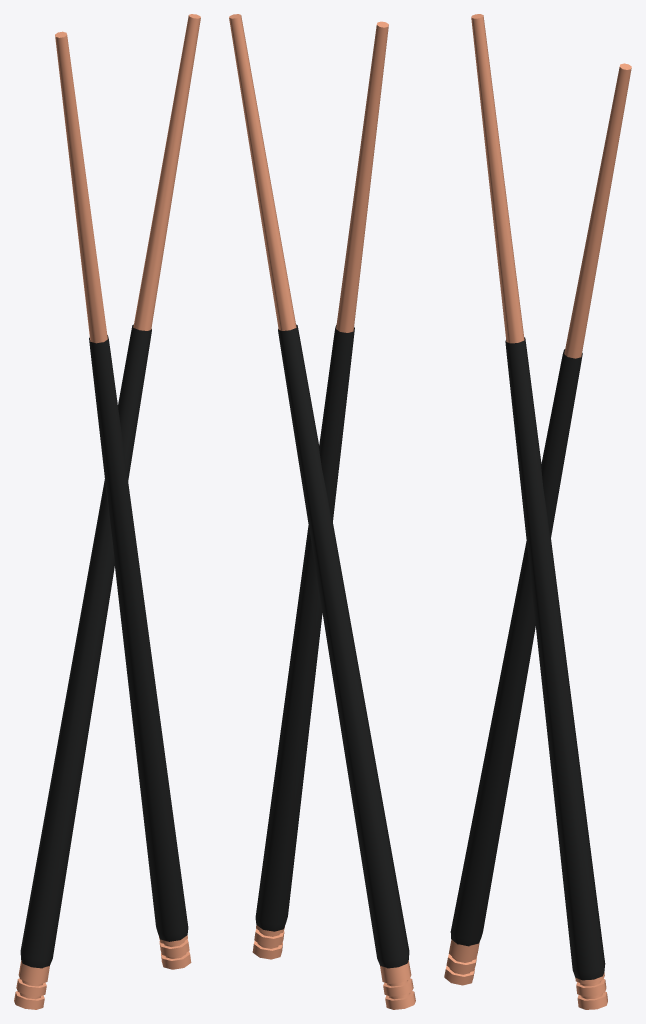
File: chopsticks_crossed_003.glb
The picture shows the model from 3 angles, left to right: view 1: azimuth 30°, elevation 25°; view 2: azimuth 150°, elevation 25°; view 3: azimuth 330°, elevation 25°; orthographic projection.
Visible parts, largest first — view 1: chopsticks crossed.003; view 2: chopsticks crossed.003; view 3: chopsticks crossed.003.
Boxes of the visible parts, bbox=[...] form: chopsticks crossed.003: bbox=[14, 14, 200, 1009]; chopsticks crossed.003: bbox=[229, 14, 415, 1009]; chopsticks crossed.003: bbox=[444, 14, 631, 1009].
Size of the model in its own units: 1.11 by 5.56 by 0.2473.
Materials: 1 (1 with a texture image).
